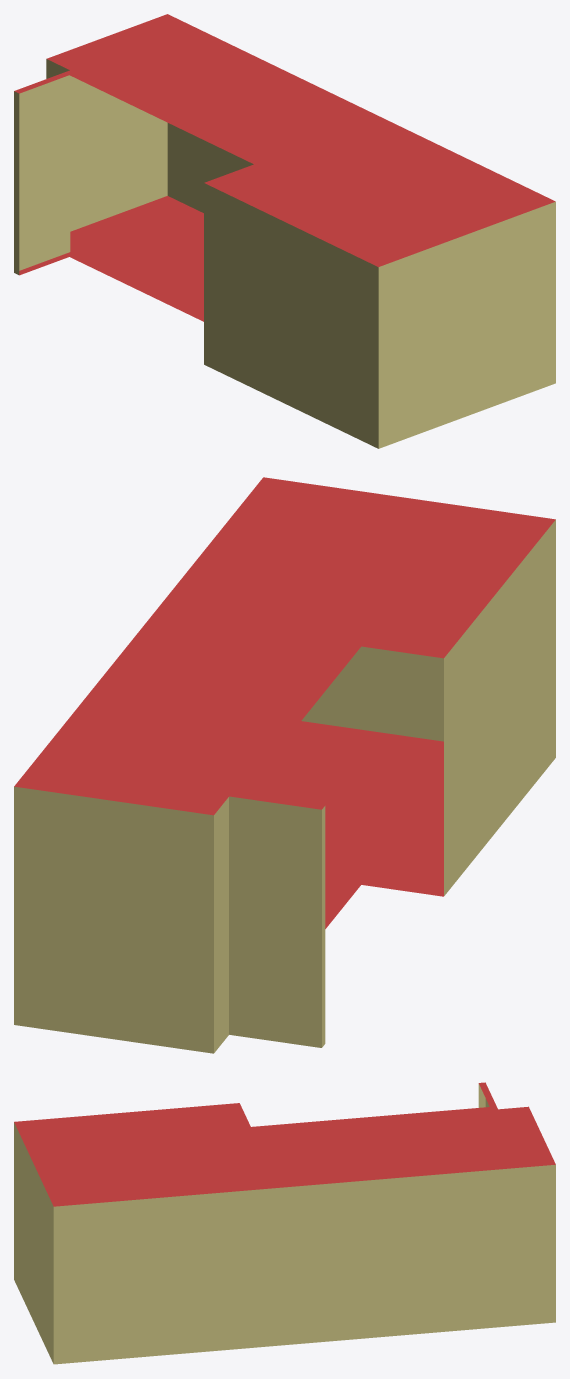
3 views of the same model, one above another, from view 1: azimuth 30°, elevation 25°; view 2: azimuth 150°, elevation 25°; view 3: azimuth 270°, elevation 25° (orthographic). The views are drawn at different scales.
Size of the model in its own units: 10.39 by 19.15 by 6.15.
